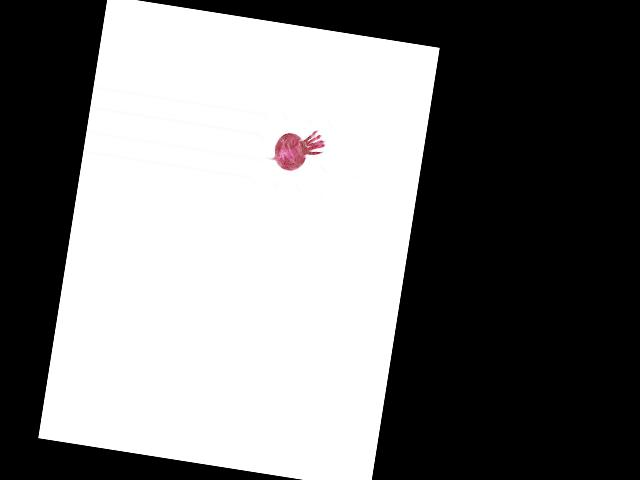beet: (264, 123, 326, 175)
